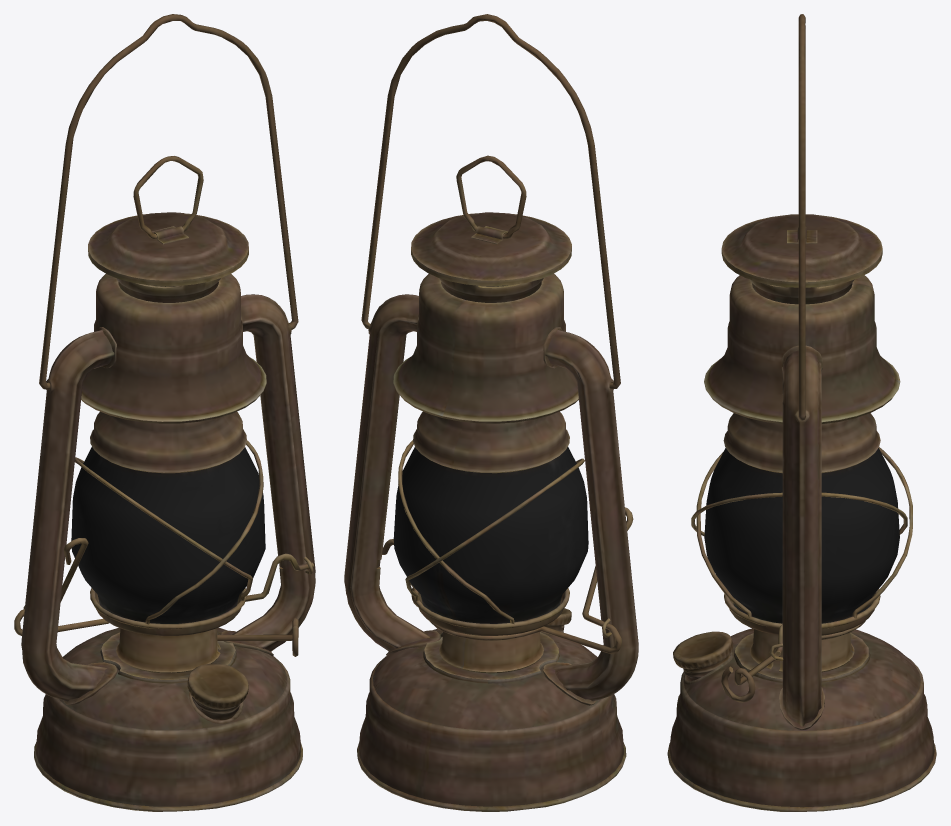
File: lantern.glb
3 views of the same model, side by side, from view 1: azimuth 30°, elevation 25°; view 2: azimuth 150°, elevation 25°; view 3: azimuth 270°, elevation 25° (orthographic).
Parts seen in each view (by area): view 1: Lantern_01, Lantern_01_glass; view 2: Lantern_01, Lantern_01_glass; view 3: Lantern_01, Lantern_01_glass.
Part boxes in pixels (x1=…): Lantern_01: x1=14, y1=14, x2=315, y2=811; Lantern_01_glass: x1=71, y1=447, x2=265, y2=623; Lantern_01: x1=344, y1=14, x2=638, y2=811; Lantern_01_glass: x1=393, y1=447, x2=588, y2=623; Lantern_01: x1=667, y1=14, x2=936, y2=811; Lantern_01_glass: x1=704, y1=448, x2=899, y2=623.
Bounding box in the file's own units: 0.1221 × 0.294 × 0.0971.
Materials: 2 (2 with a texture image).
